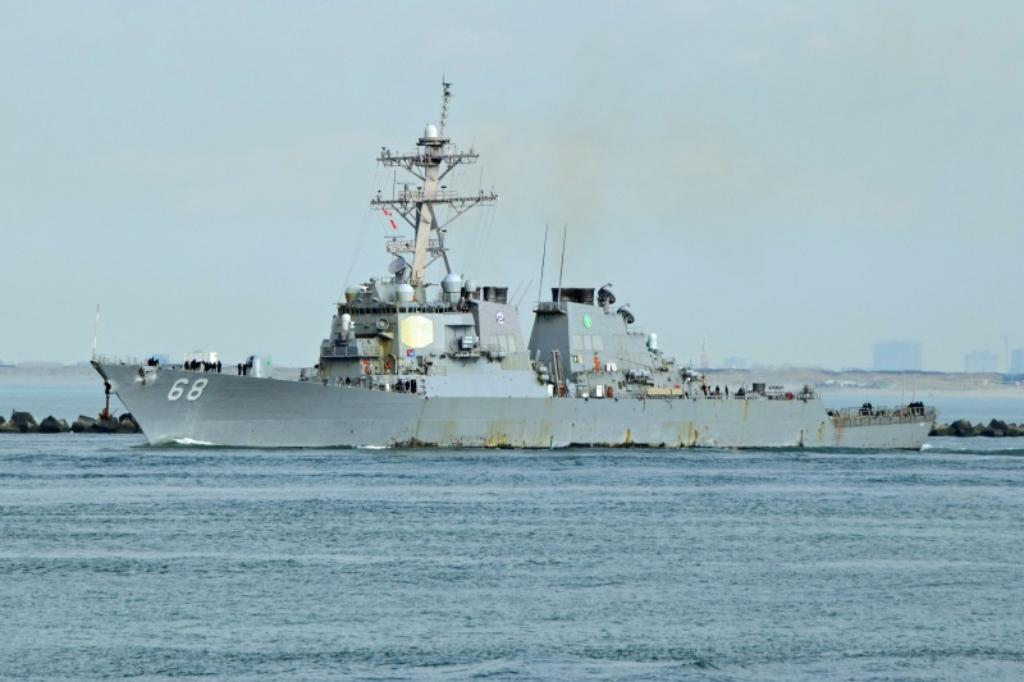Warship: (90, 75, 944, 453)
